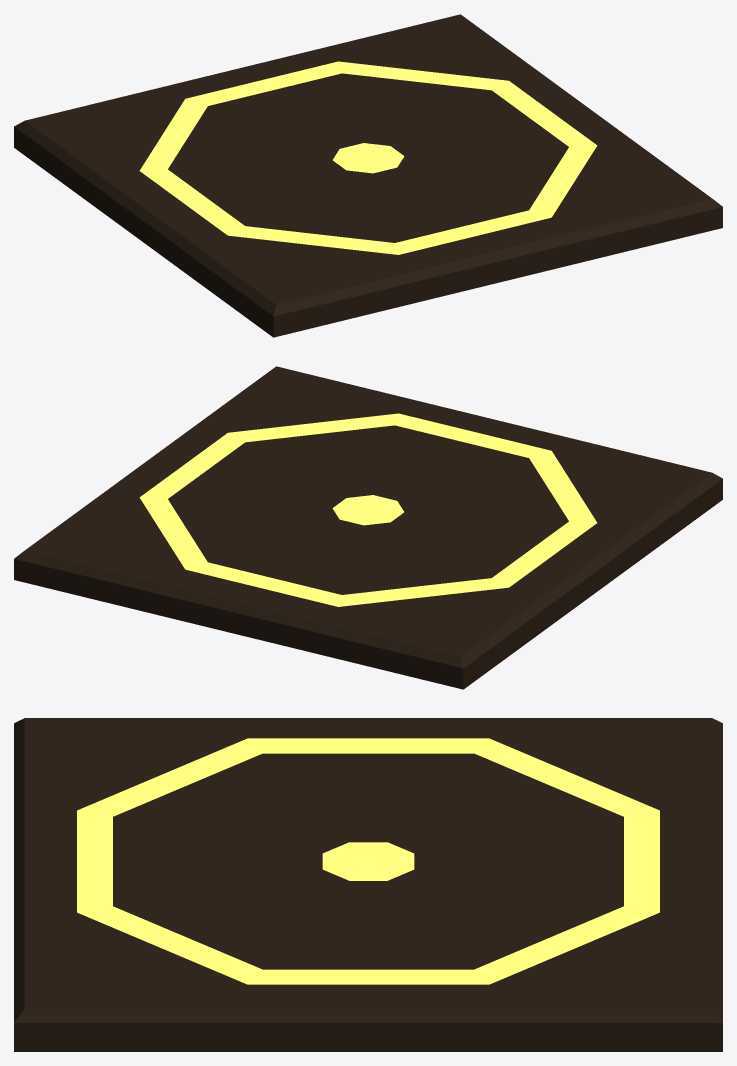
File: floor_hard.glb
3 renders of one model, top to bottom at view 1: azimuth 30°, elevation 25°; view 2: azimuth 150°, elevation 25°; view 3: azimuth 270°, elevation 25°, orthographic. The views are drawn at different scales.
Parts seen in each view (by area): view 1: Mesh; view 2: Mesh; view 3: Mesh.
Part boxes in pixels (<box>): Mesh: <box>14,14,722,337</box>; Mesh: <box>14,366,722,689</box>; Mesh: <box>14,718,722,1051</box>.
Size of the model in its own units: 2 by 0.126 by 2.
